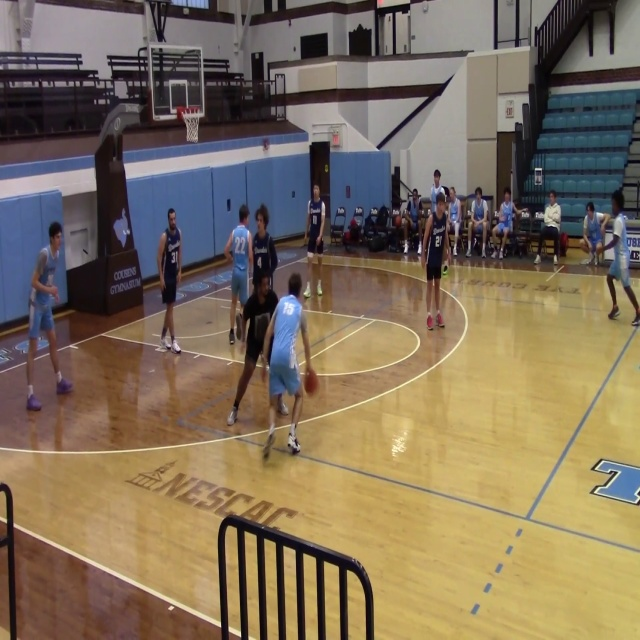Basketball: (304, 369, 318, 395), (579, 239, 590, 254), (442, 265, 448, 275)
